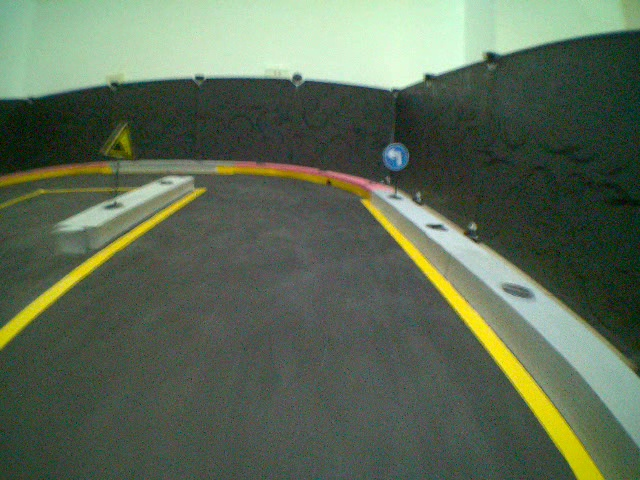fast: (101, 122, 136, 158)
turn: (382, 141, 410, 170)
